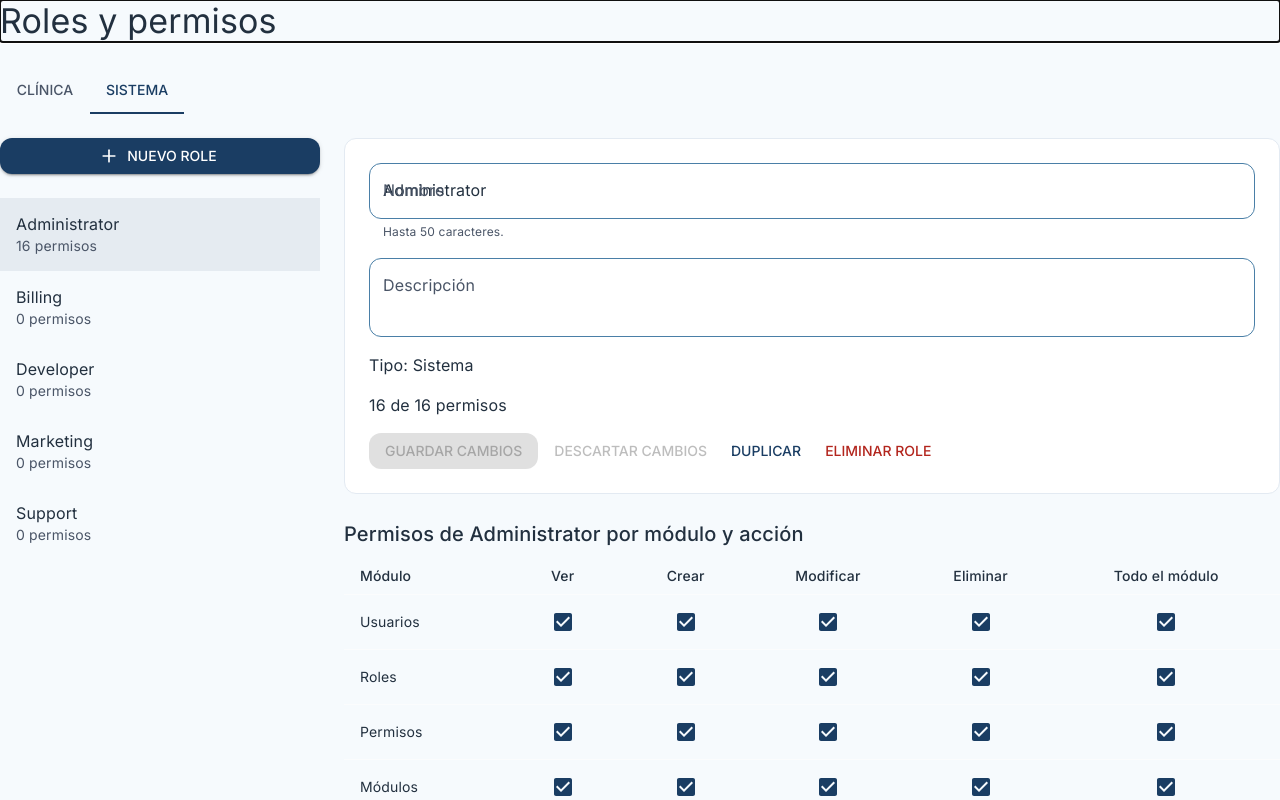
Scenario: RolesPage › unsaved changes (FR-017, edge case of spec.md) › also warns when switching tabs with unsaved changes
Step 1. Type " Jr" into the field labelled "Nombre" → point(812, 191), box [369,163,1255,219]
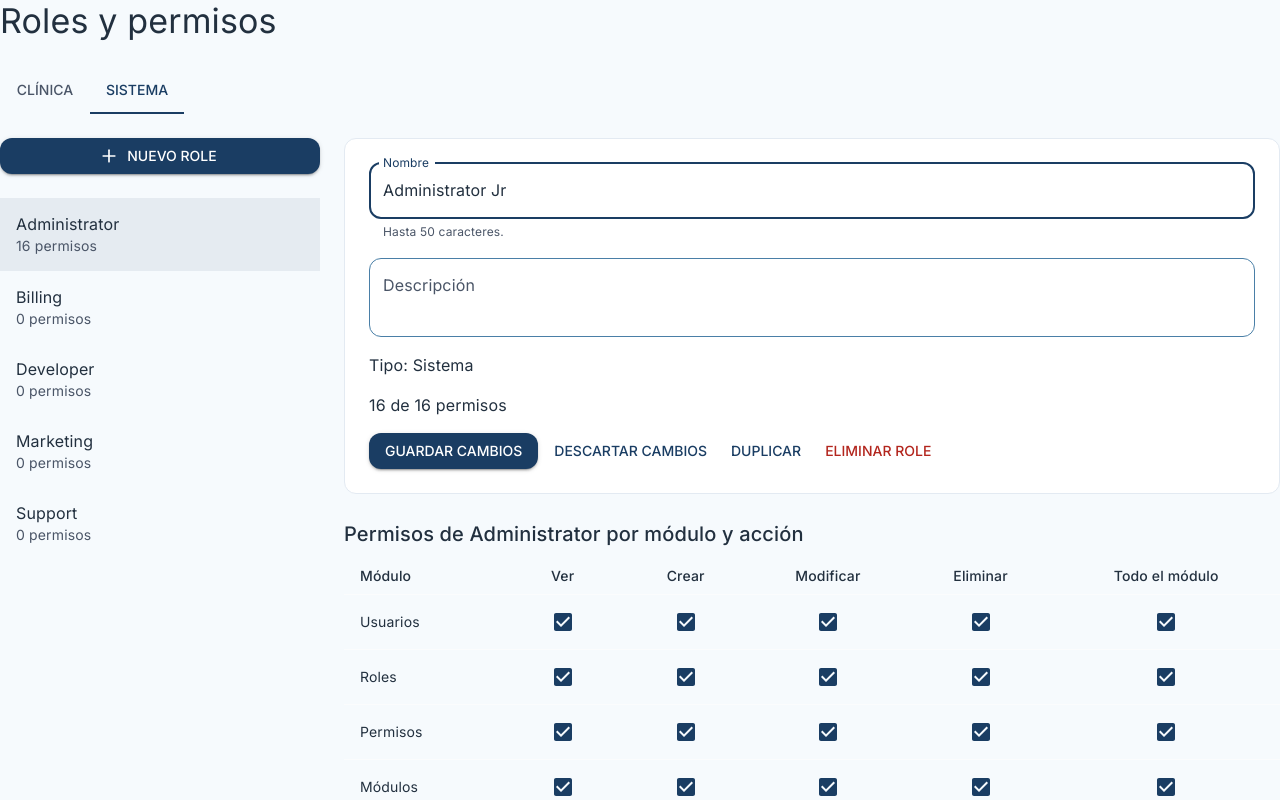
Step 2. Click the tab "Clínica" → point(45, 90), box [0,66,90,114]
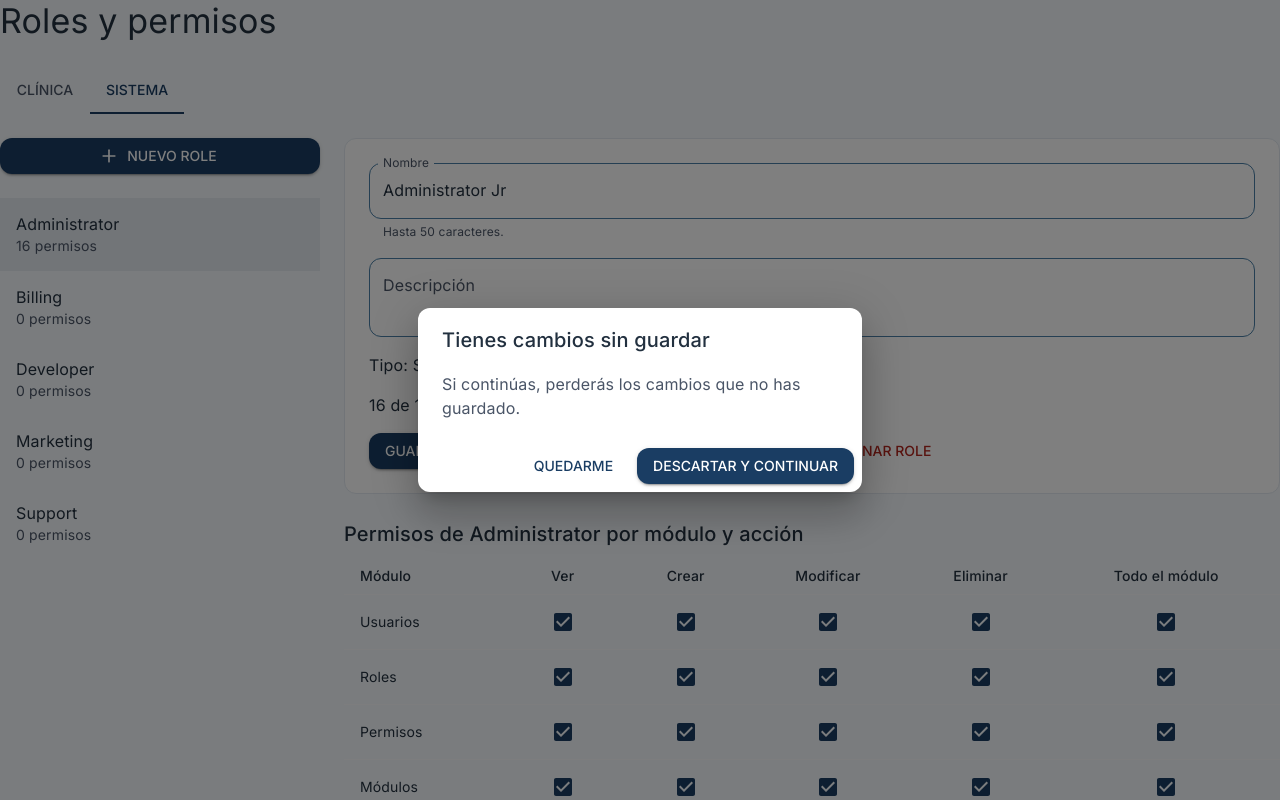
Expected: the dialog "Tienes cambios sin guardar" is shown, [418,308,862,492]
